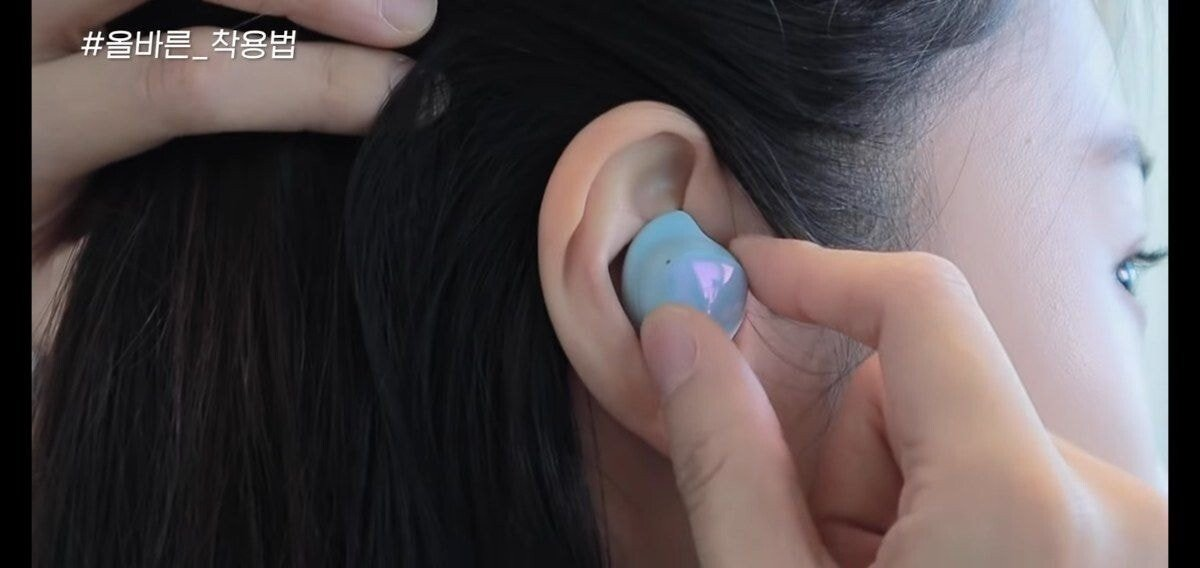earphone: (538, 102, 780, 471)
